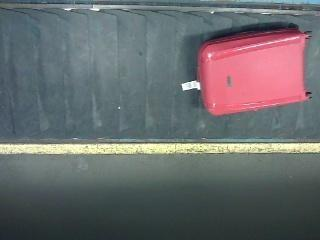Suitcase: (198, 30, 309, 114)
